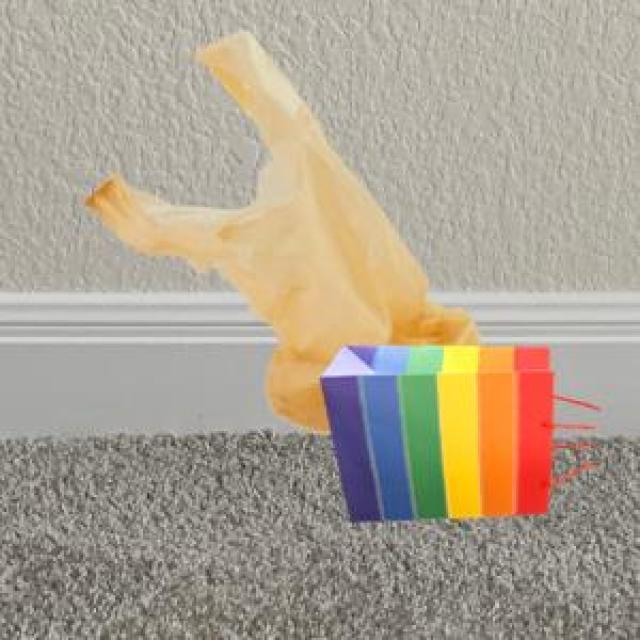paper: (316, 341, 561, 518)
